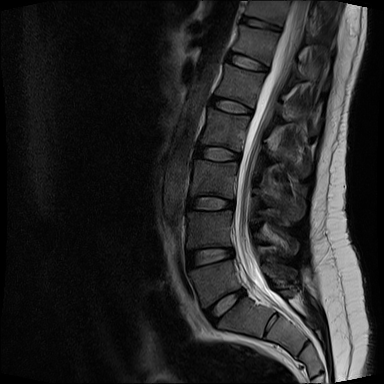Degenerative Disc Disease (DDD): (236, 13, 286, 36)
Lumbar Disc Bulge (LDB): (181, 242, 237, 274)
Normal IVD: (202, 283, 250, 327), (220, 47, 275, 78), (203, 91, 258, 122), (186, 140, 247, 167), (178, 192, 240, 217)
Spinal Stenosis (SS): (226, 243, 240, 263)
